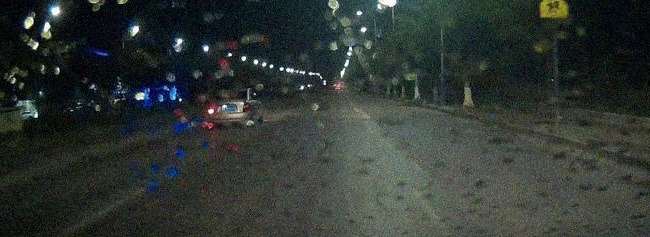L_light: (208, 105, 215, 114)
R_light: (243, 102, 250, 112)
T_light: (228, 91, 235, 93)
night-left: (207, 88, 250, 128)
